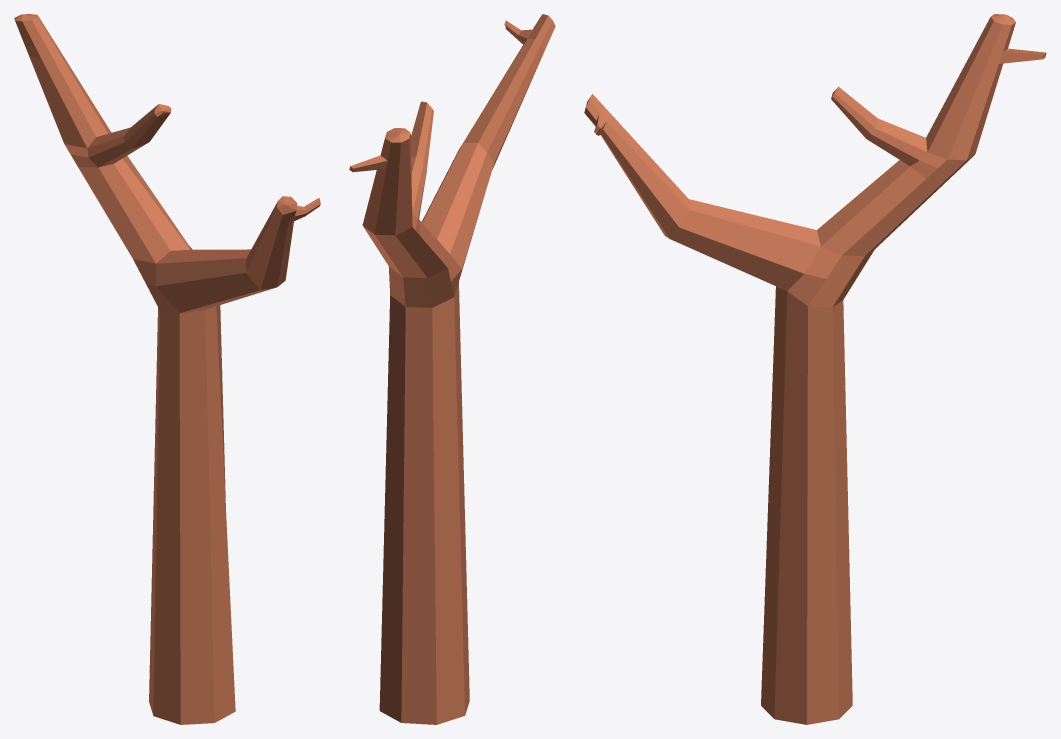
The model's file is Tree_03_spring_mat.fbx.
The picture shows the model from 3 angles, left to right: view 1: azimuth 30°, elevation 25°; view 2: azimuth 150°, elevation 25°; view 3: azimuth 270°, elevation 25°; orthographic projection. The views are drawn at different scales.
Parts seen in each view (by area): view 1: Tree_03_spring_mat; view 2: Tree_03_spring_mat; view 3: Tree_03_spring_mat.
Part boxes in pixels (x1,y1,x2,y2): Tree_03_spring_mat: [14, 14, 320, 724]; Tree_03_spring_mat: [349, 14, 555, 724]; Tree_03_spring_mat: [584, 14, 1046, 724].
Bounding box in the file's own units: 1.1 × 5.6 × 3.59.
